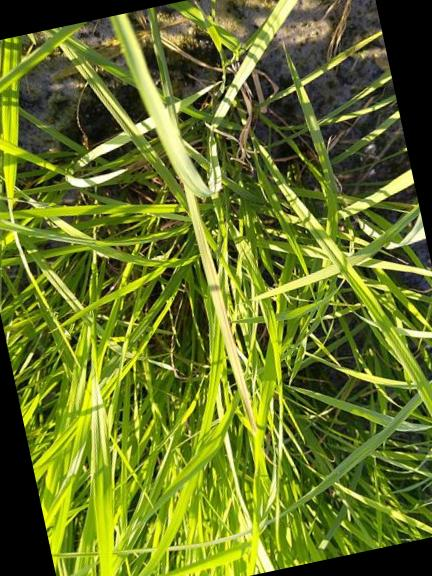Leaf Streak: (183, 183, 256, 433)
